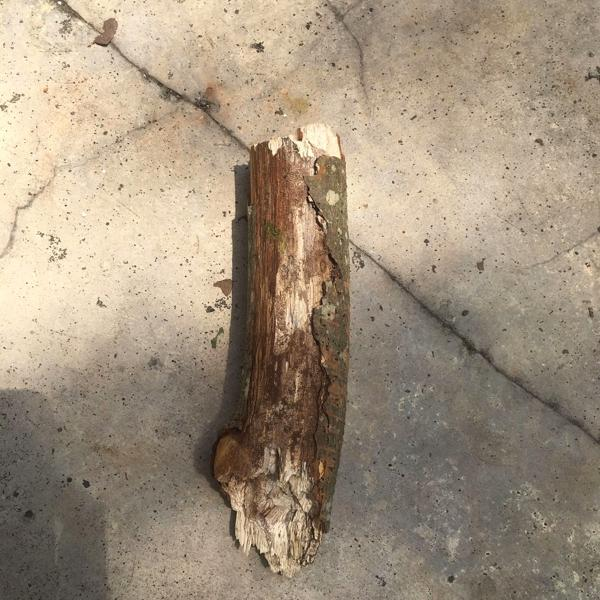Organik: (234, 124, 336, 561)
